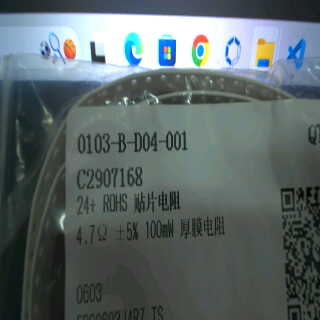4.7R: (72, 218, 112, 252)
